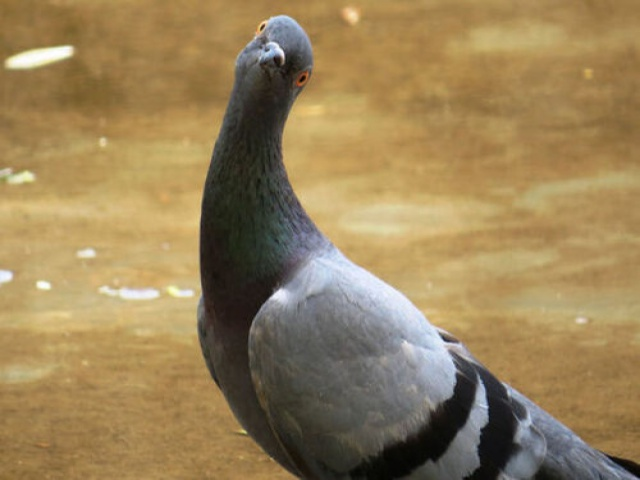Pigeon: (194, 11, 626, 479)
